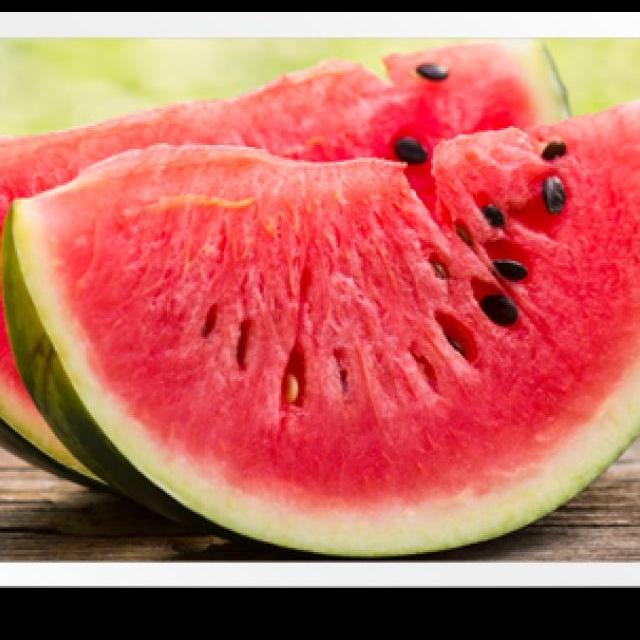watermelon: (0, 96, 640, 550)
